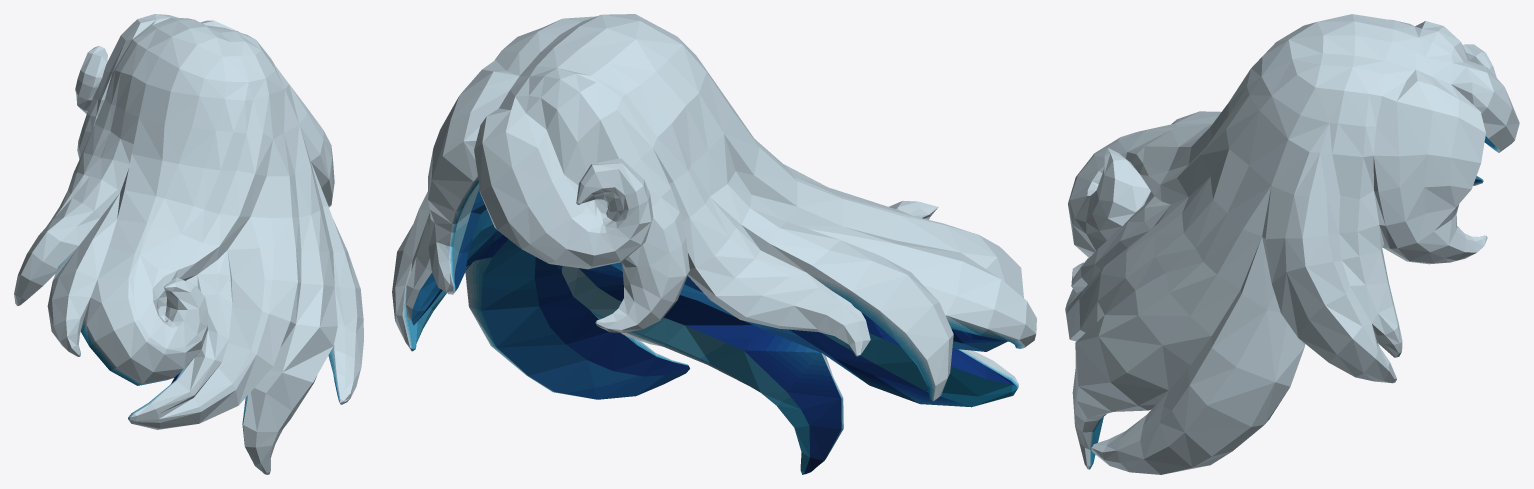
The model's file is CharSkyKid_Hair_AP31Starry.glb.
3 renders of one model, left to right at view 1: azimuth 30°, elevation 25°; view 2: azimuth 150°, elevation 25°; view 3: azimuth 270°, elevation 25°, orthographic. The views are drawn at different scales.
Visible parts, largest first — view 1: CharSkyKid_Hair_AP31Starry; view 2: CharSkyKid_Hair_AP31Starry; view 3: CharSkyKid_Hair_AP31Starry.
Boxes of the visible parts, x1,y1,x2,y2 form: CharSkyKid_Hair_AP31Starry: [14, 14, 363, 474]; CharSkyKid_Hair_AP31Starry: [392, 14, 1036, 474]; CharSkyKid_Hair_AP31Starry: [1065, 14, 1519, 474].
Bounding box in the file's own units: 6.01 × 6.06 × 5.38.
Materials: 1 (1 with a texture image).
